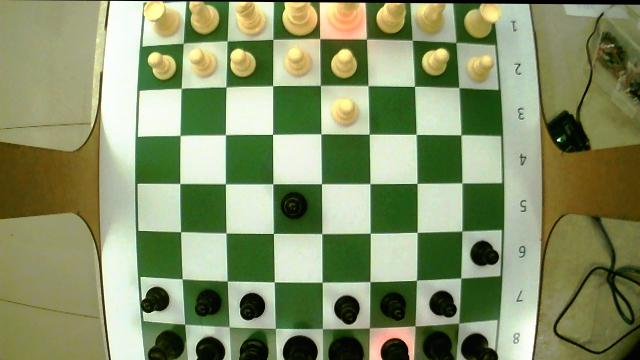piece: (145, 1, 179, 36), (464, 4, 498, 37), (150, 326, 183, 359), (327, 2, 363, 32), (460, 333, 497, 360), (284, 4, 316, 35), (328, 332, 363, 360), (236, 2, 265, 35), (190, 1, 218, 34), (282, 335, 318, 360), (464, 5, 492, 37), (462, 333, 495, 360), (149, 331, 179, 360), (423, 332, 454, 360), (190, 47, 218, 76), (416, 3, 445, 31), (283, 336, 316, 359), (192, 3, 219, 31), (375, 5, 403, 32), (240, 331, 266, 360), (228, 49, 255, 76), (422, 48, 449, 75), (196, 286, 223, 313), (148, 52, 175, 79), (284, 47, 310, 75), (329, 338, 362, 360), (376, 3, 402, 30), (379, 293, 406, 319), (470, 241, 498, 266), (430, 291, 456, 317), (141, 287, 168, 312), (420, 48, 447, 73), (331, 49, 355, 77), (195, 289, 220, 315), (282, 192, 307, 218), (335, 296, 359, 323), (381, 293, 405, 320), (196, 337, 224, 360), (334, 296, 358, 322), (381, 338, 409, 360), (239, 339, 268, 360), (472, 240, 496, 265), (241, 294, 265, 319), (332, 99, 356, 124), (240, 292, 263, 318), (380, 338, 407, 360), (196, 337, 223, 359), (431, 291, 455, 315), (332, 97, 355, 122), (143, 286, 167, 309), (467, 55, 491, 78), (470, 56, 488, 81)
